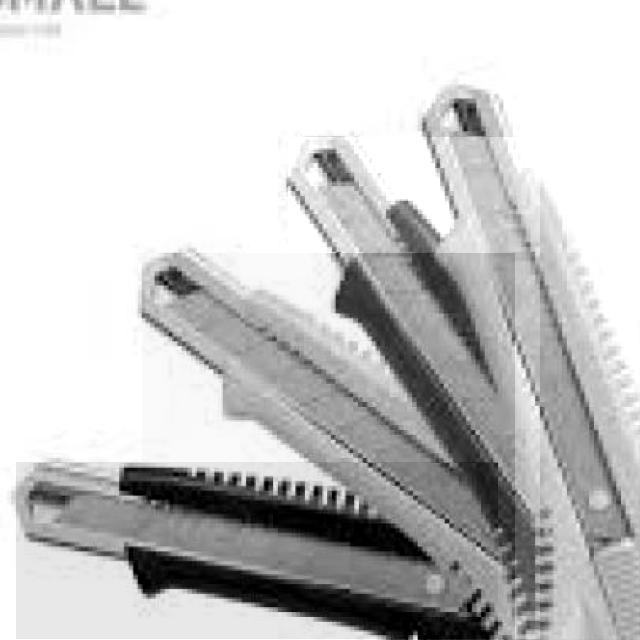estilete: (143, 253, 515, 640), (289, 137, 540, 639), (423, 82, 640, 640), (16, 463, 498, 640)
